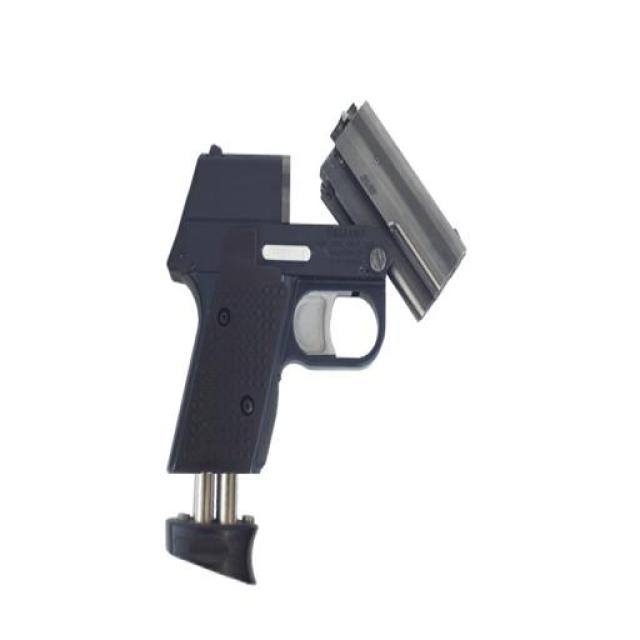pistol: (123, 101, 479, 595)
